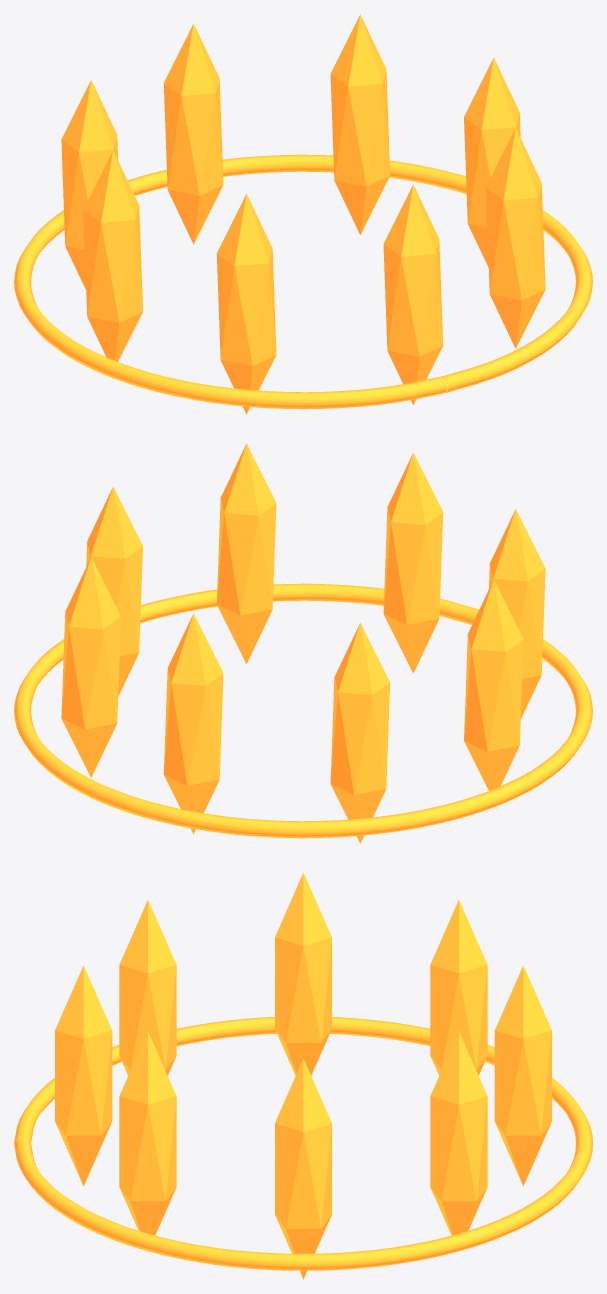
Rendered from status-1-refined-v15.fbx.
3 views of the same model, one above another, from view 1: azimuth 30°, elevation 25°; view 2: azimuth 150°, elevation 25°; view 3: azimuth 270°, elevation 25° (orthographic).
Parts seen in each view (by area): view 1: AreaRune.007, ElementalShard.035, ElementalShard.036, ElementalShard.033, ElementalShard.038, ElementalShard.032, ElementalShard.039, ElementalShard.034, ElementalShard.037; view 2: AreaRune.007, ElementalShard.033, ElementalShard.032, ElementalShard.035, ElementalShard.038, ElementalShard.036, ElementalShard.037, ElementalShard.034, ElementalShard.039; view 3: AreaRune.007, ElementalShard.036, ElementalShard.032, ElementalShard.035, ElementalShard.033, ElementalShard.034, ElementalShard.038, ElementalShard.037, ElementalShard.039.
Part boxes in pixels (x1,y1,x2,y2): AreaRune.007: (14,154,592,409); ElementalShard.035: (330,14,390,234); ElementalShard.036: (163,24,223,244); ElementalShard.033: (486,128,545,348); ElementalShard.038: (83,150,142,361); ElementalShard.032: (383,184,443,404); ElementalShard.039: (216,194,276,414); ElementalShard.034: (464,58,520,267); ElementalShard.037: (61,80,118,289); AreaRune.007: (14,583,592,838); ElementalShard.033: (216,443,276,663); ElementalShard.032: (383,453,443,673); ElementalShard.035: (61,557,120,777); ElementalShard.038: (464,579,523,790); ElementalShard.036: (163,613,223,833); ElementalShard.037: (330,623,390,843); ElementalShard.034: (86,487,142,696); ElementalShard.039: (488,509,545,718); AreaRune.007: (14,1017,592,1270); ElementalShard.036: (494,965,551,1186); ElementalShard.032: (55,965,112,1186); ElementalShard.035: (430,1031,487,1251); ElementalShard.033: (119,1031,176,1251); ElementalShard.034: (275,1058,331,1279); ElementalShard.038: (275,872,331,1075); ElementalShard.037: (430,900,487,1075); ElementalShard.039: (119,900,176,1075).
Bounding box in the file's own units: 94.8 × 40 × 94.79.
